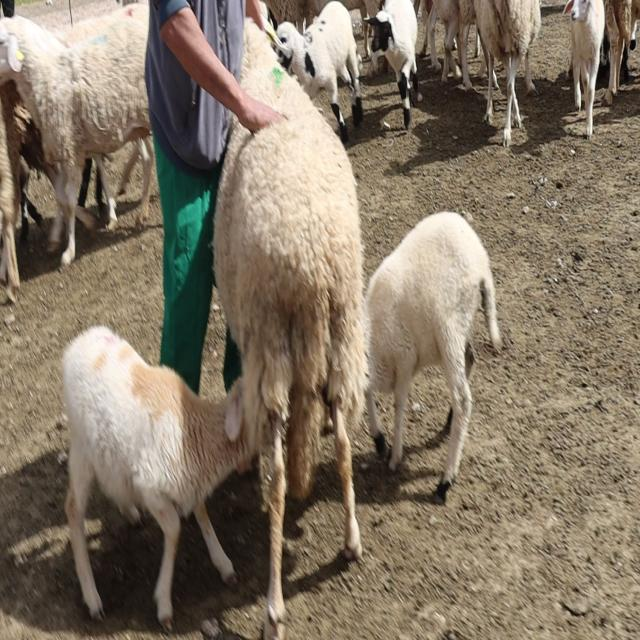Score_5: (214, 20, 368, 639)
